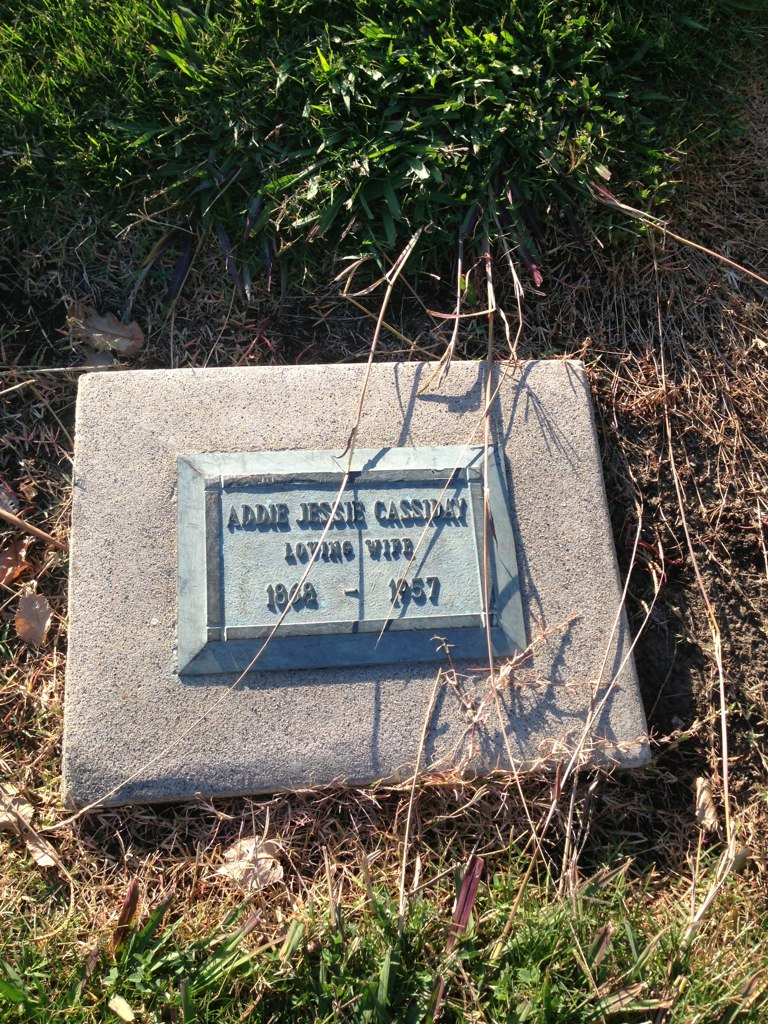flat: (63, 350, 649, 811)
